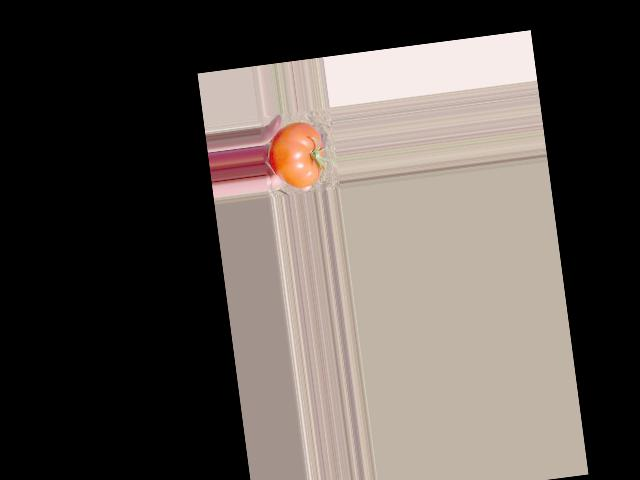tomato: (264, 119, 328, 191)
